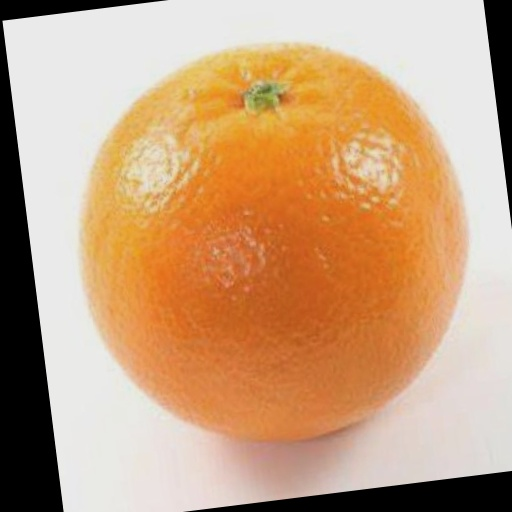fruit: (81, 45, 466, 439)
